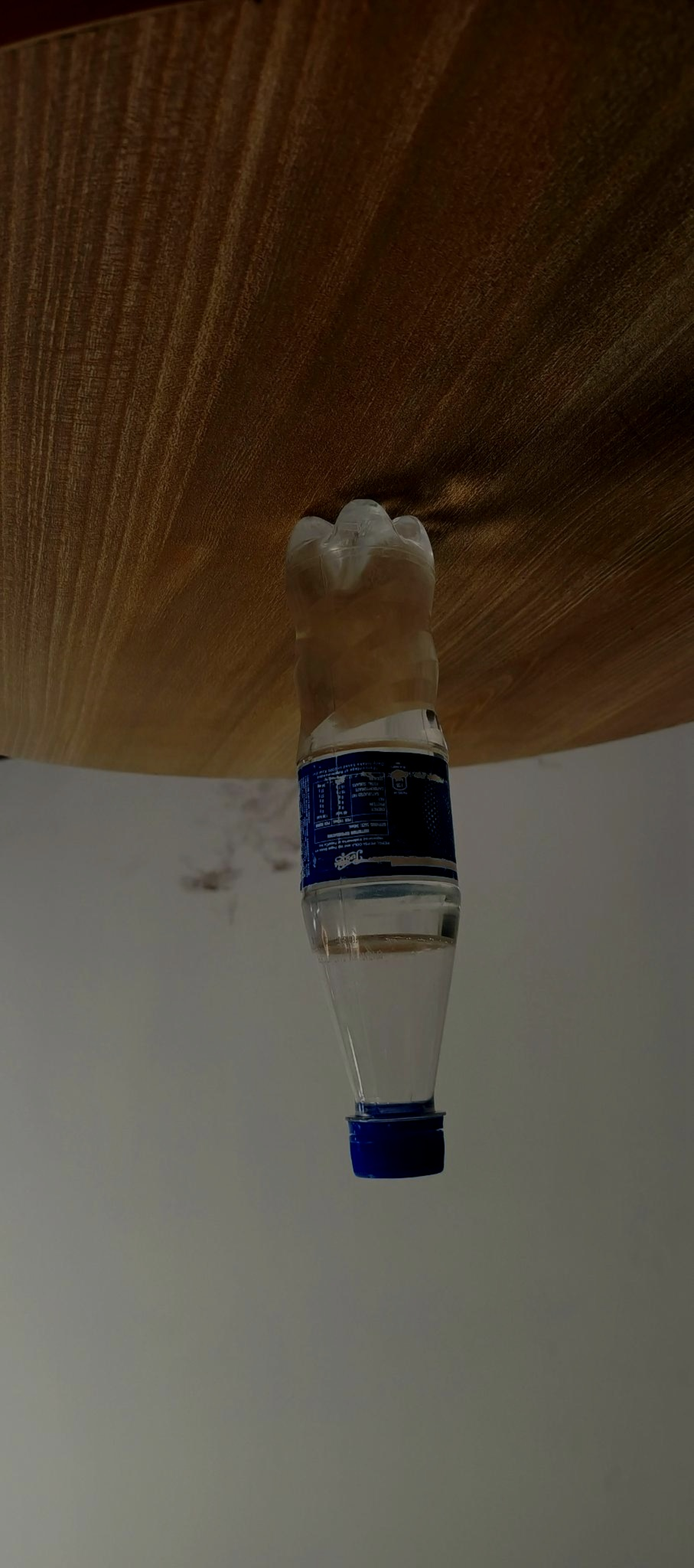Pepsi Bottle: (240, 465, 472, 1184), (262, 498, 472, 1184)
